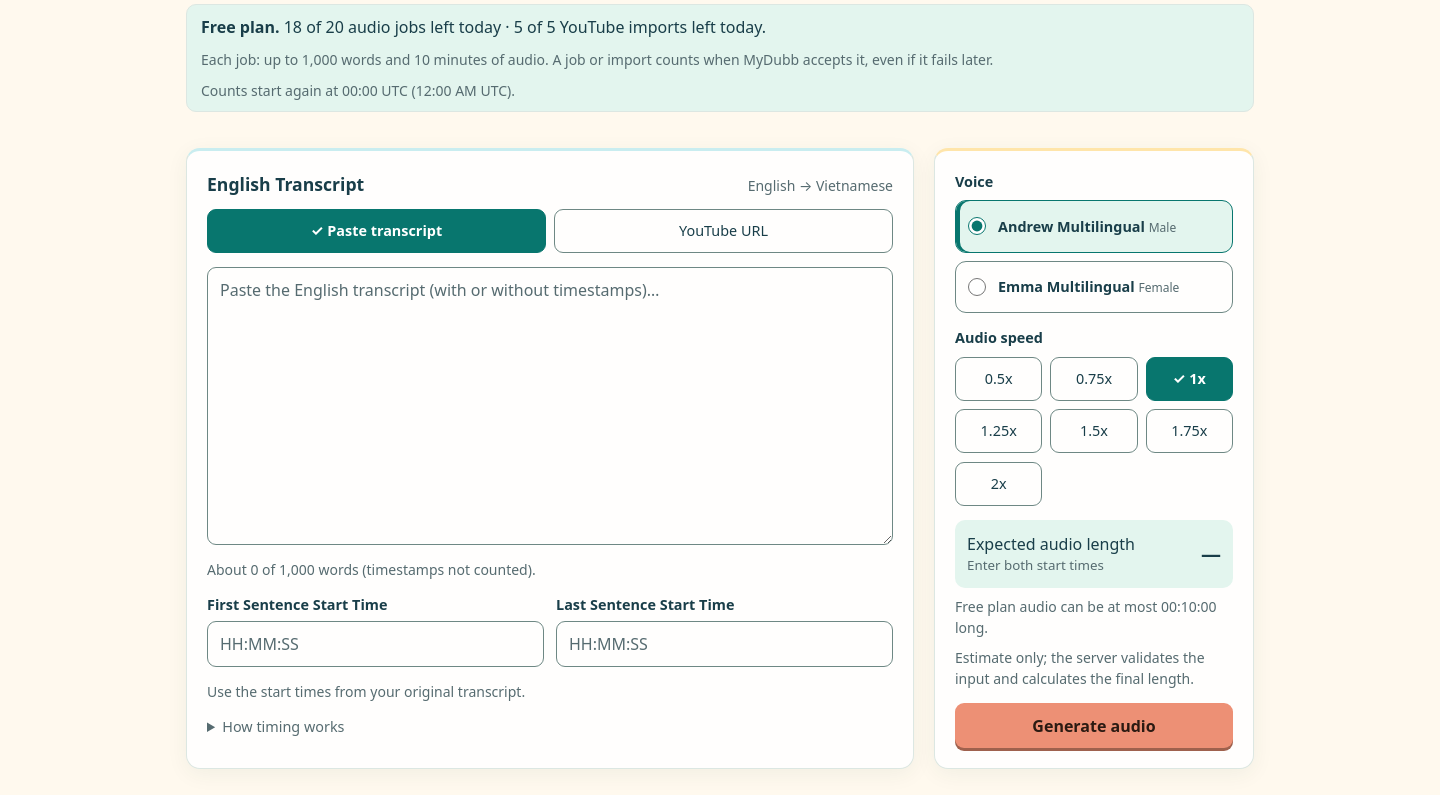
Test: refreshing the numbers › generate_daily_cap_reached is shown as the server words it and sent once
This screenshot has width=1440, height=795.
(page scrolled)
Expected: the element named "Your plan" is shown, top-left (186, 4), bottom-right (1254, 112)
Type "Hello world." into the text box labelled "English Transcript".
click(550, 406); type("Hello world.")  # box top-left (207, 267), bottom-right (893, 545)
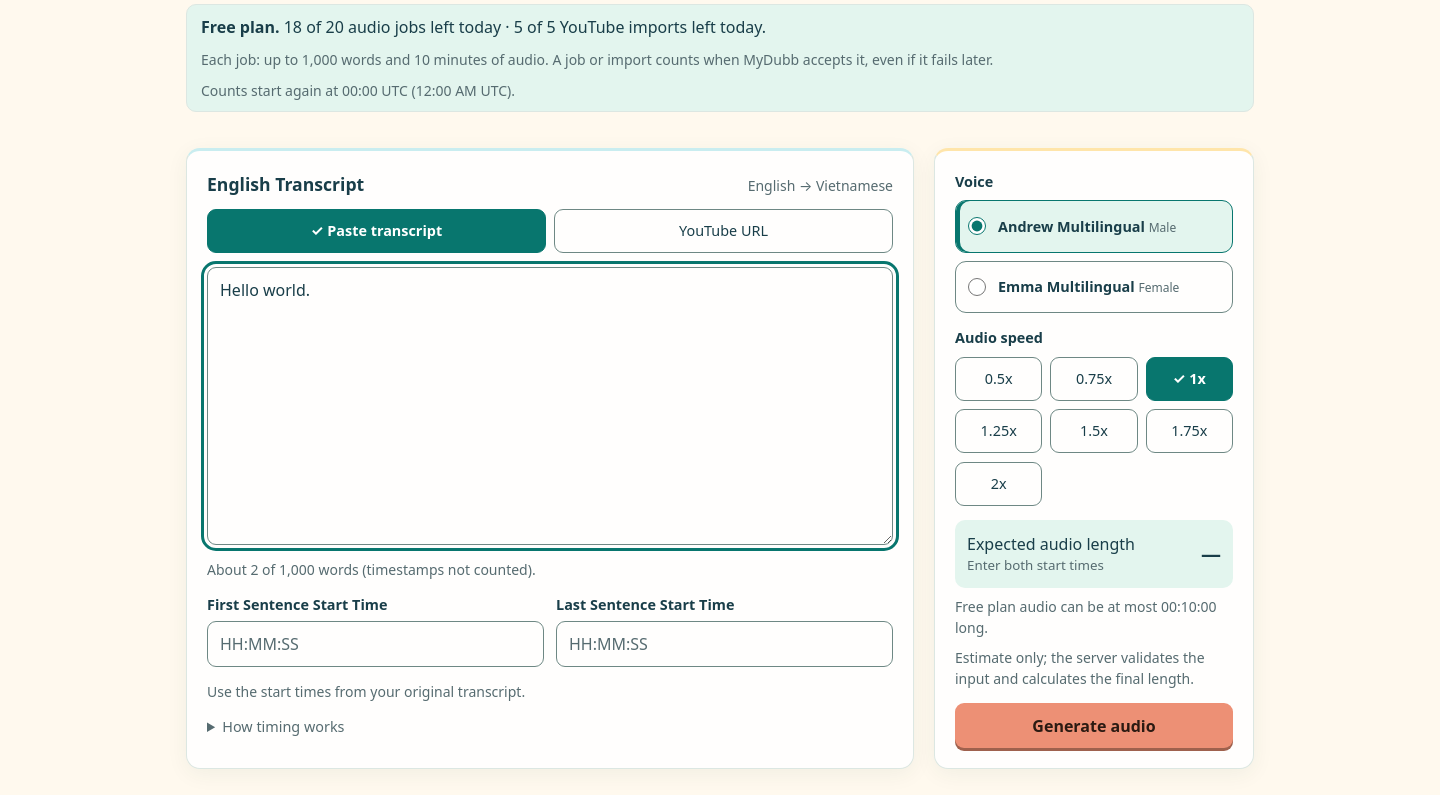
Type "000010" into the field labelled "First Sentence Start Time".
click(376, 644); type("000010")  # box top-left (207, 621), bottom-right (544, 667)
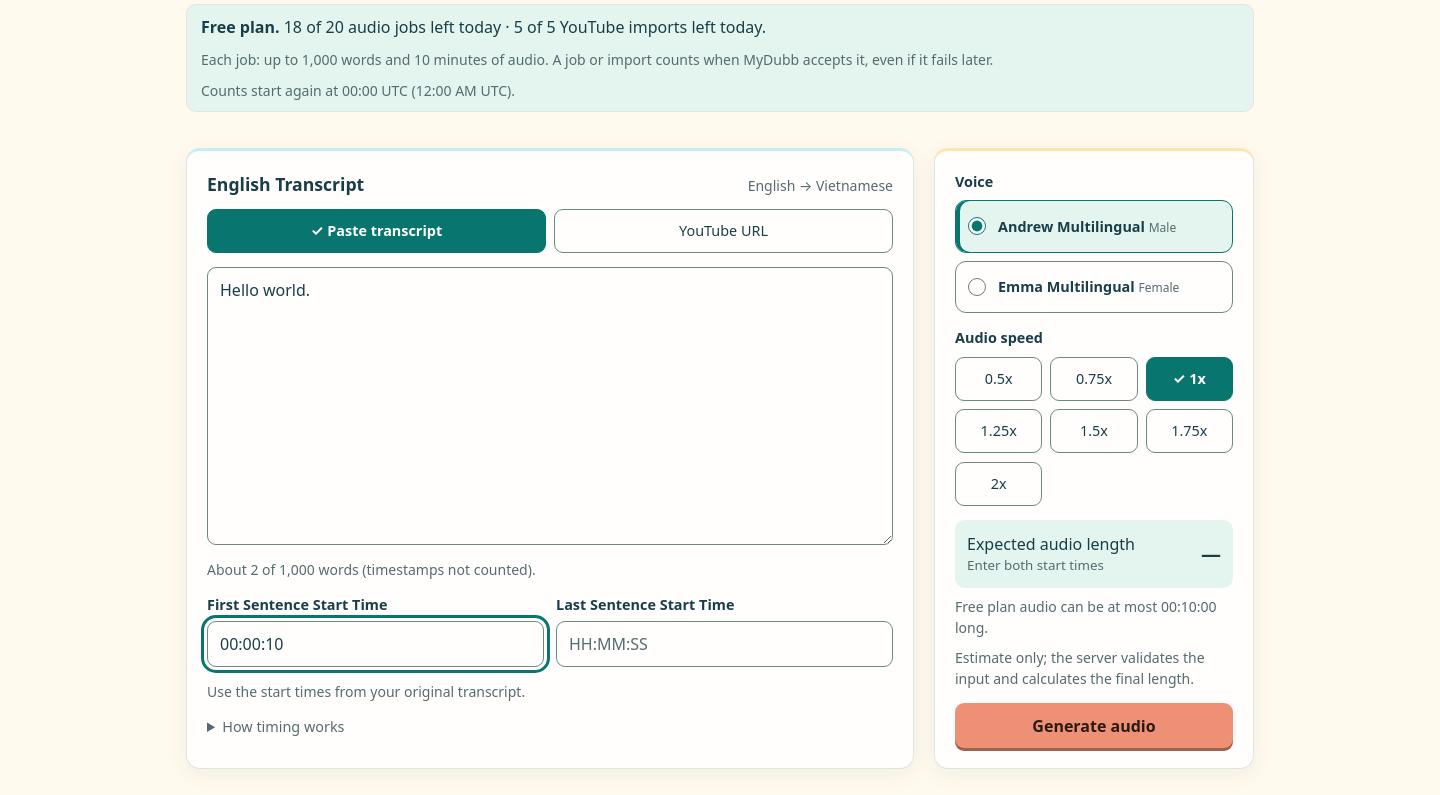
Type "000610" into the field labelled "Last Sentence Start Time".
click(724, 644); type("000610")  # box top-left (556, 621), bottom-right (893, 667)
(page scrolled)
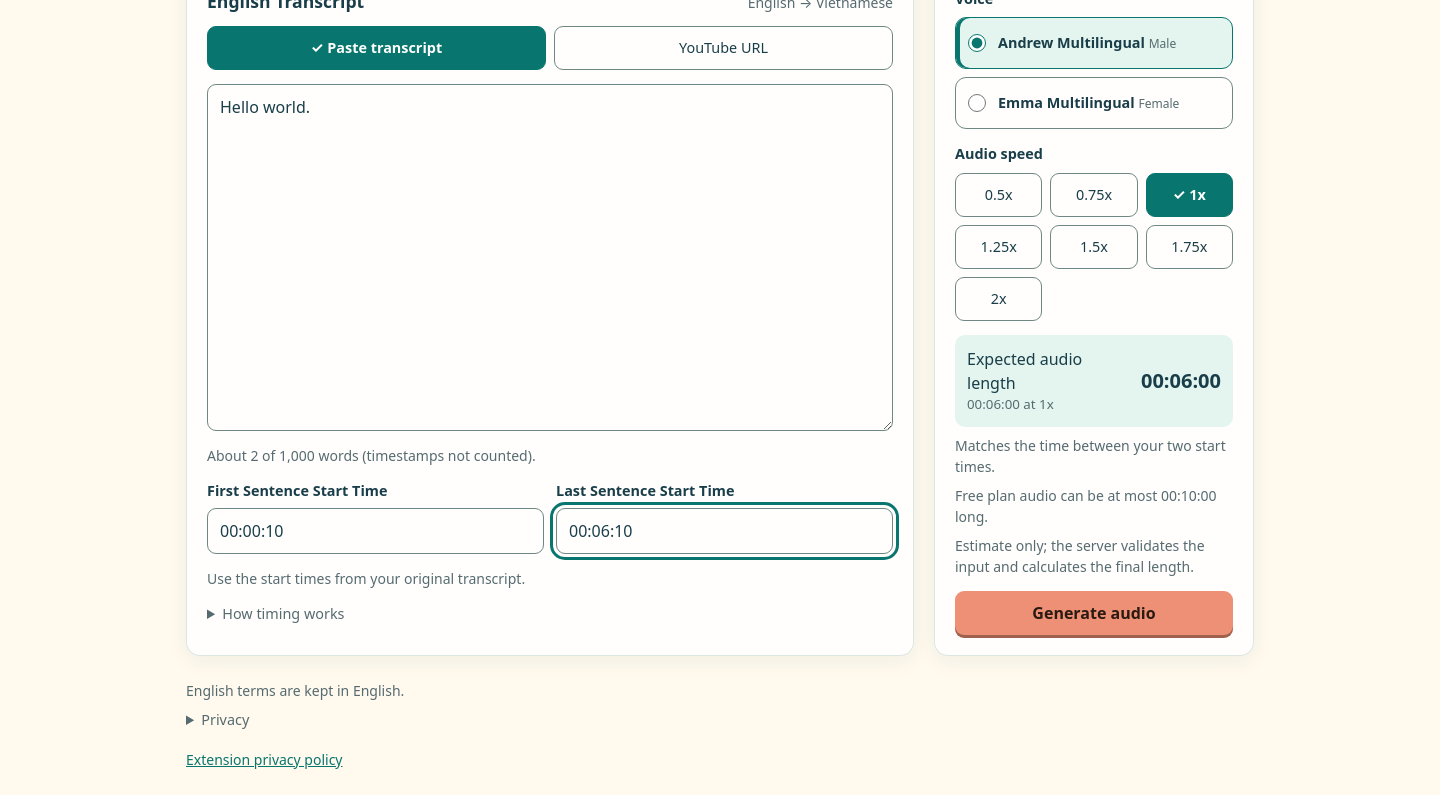
Click the button "Generate audio".
click(1094, 613)  # box top-left (955, 591), bottom-right (1233, 635)
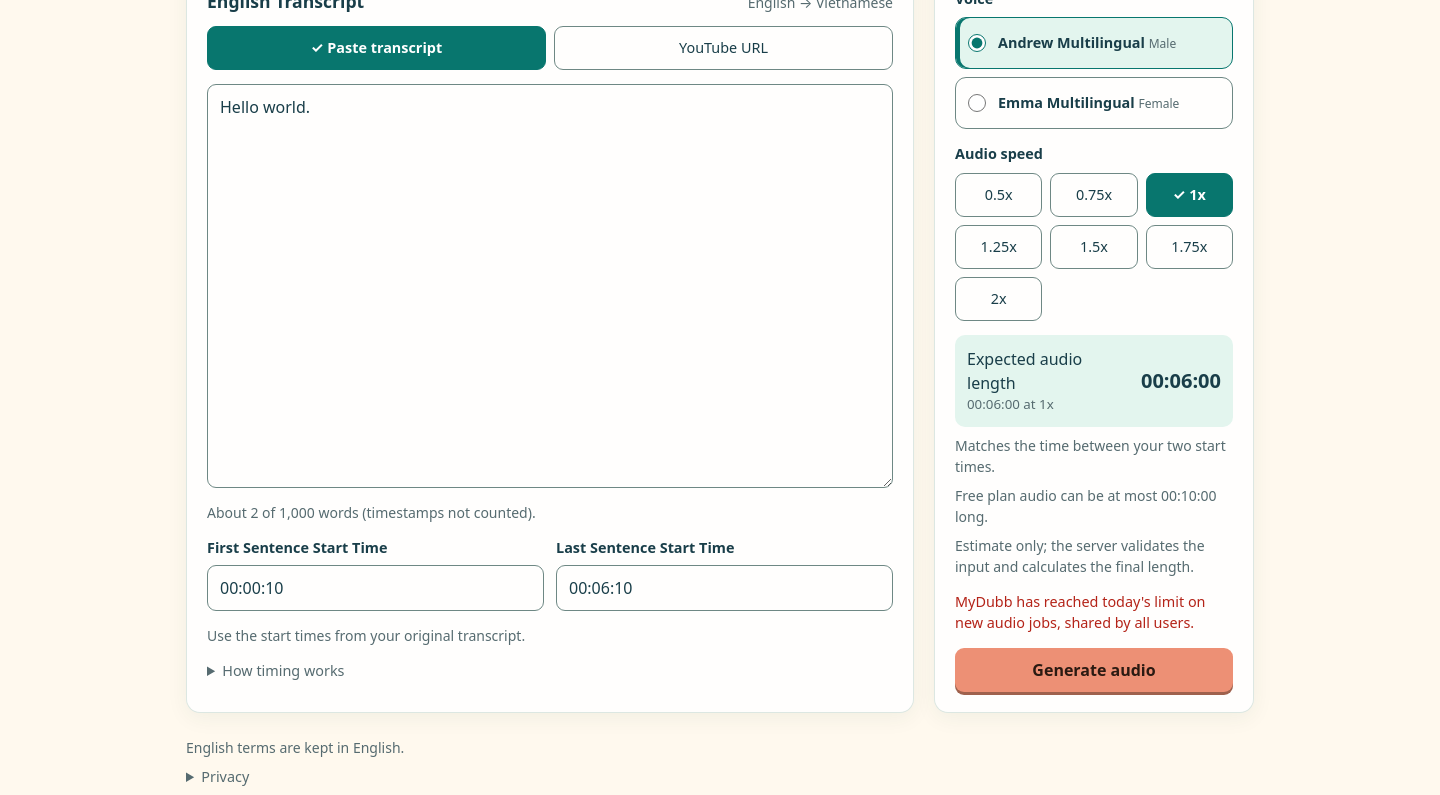
Expected: the message reads "MyDubb has reached today's limit on new audio jobs, shared by all users.", top-left (955, 592), bottom-right (1206, 632)
